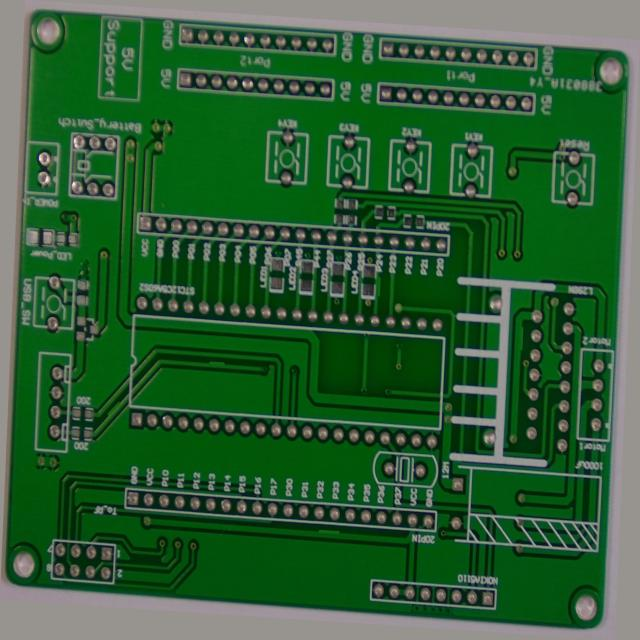spur: (321, 535, 354, 552), (371, 266, 386, 297), (99, 417, 119, 438), (523, 308, 535, 342), (203, 366, 226, 380)
